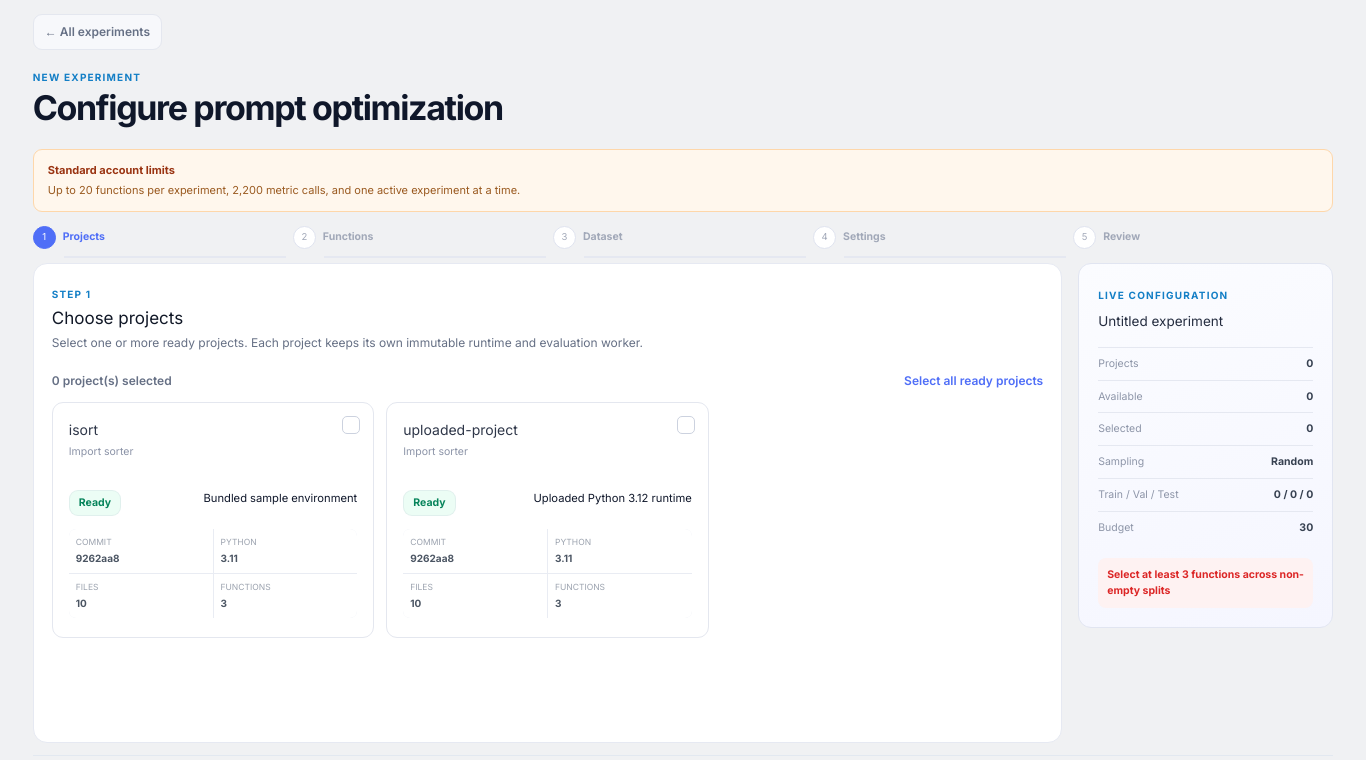
Scenario: create experiment wizard › allows projects with independent runtime environments in one experiment
The image size is (1366, 760).
Click the button "isort" at [101, 452], box [52,402,374,638]
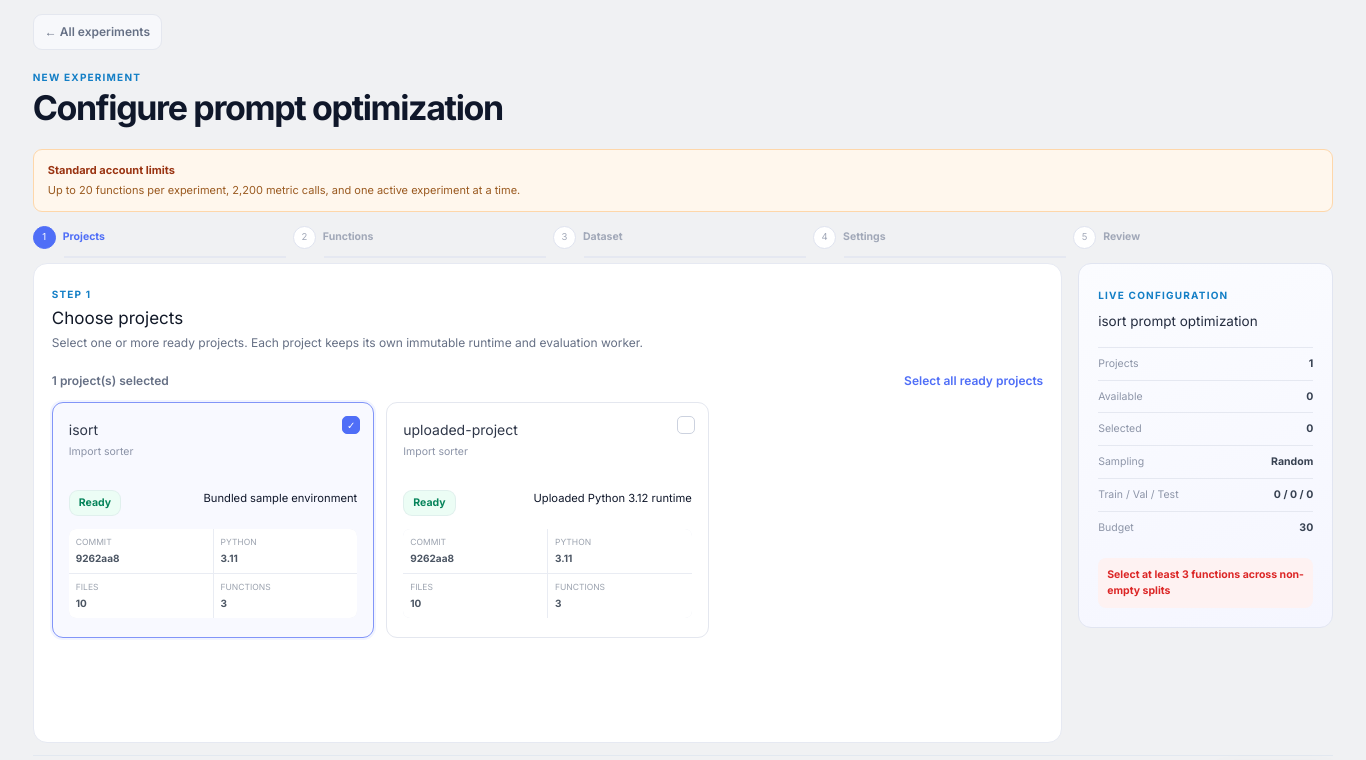
Click the button "uploaded-project" at [461, 430], box [386,402,709,638]
(page scrolled)
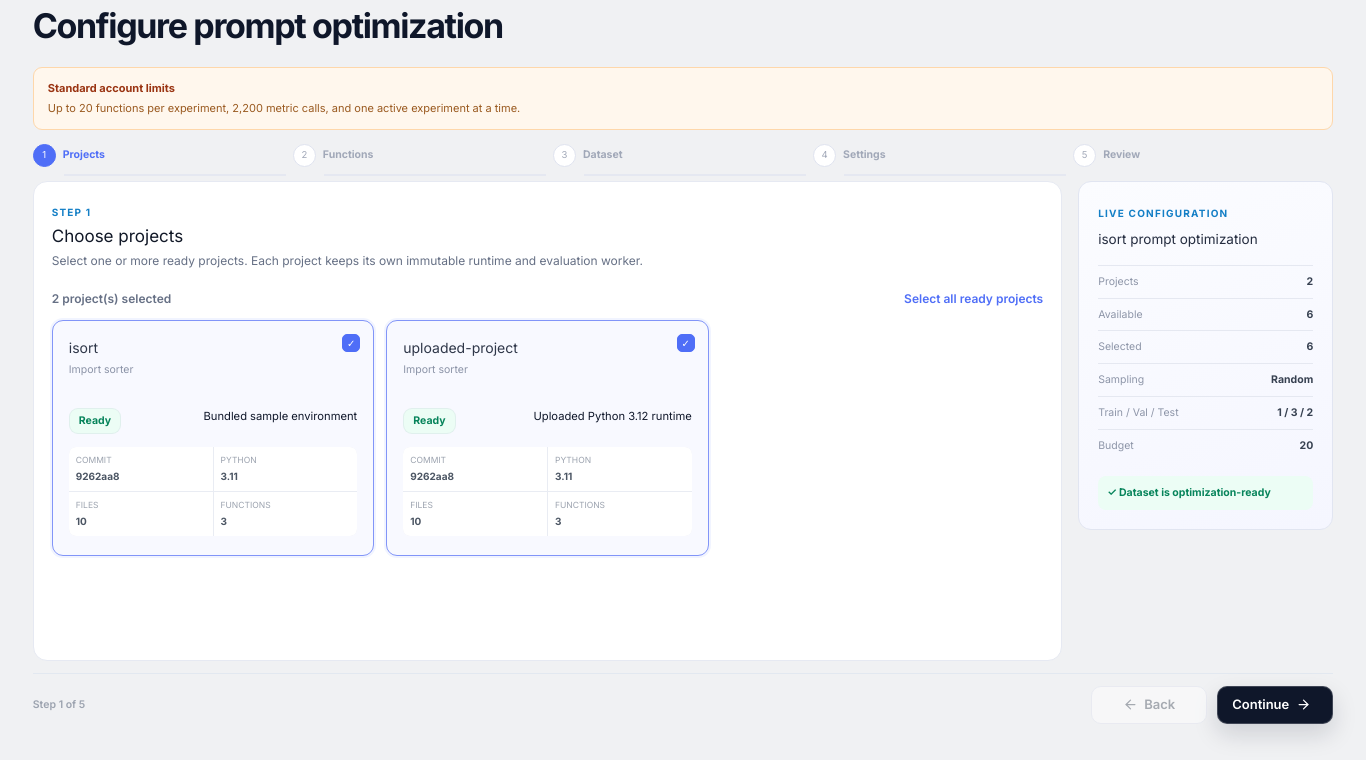
Expected: the button "Continue" is enabled, [1217,686,1333,724]
Expected: the text "2 project(s) selected" is shown, [52,290,171,308]
